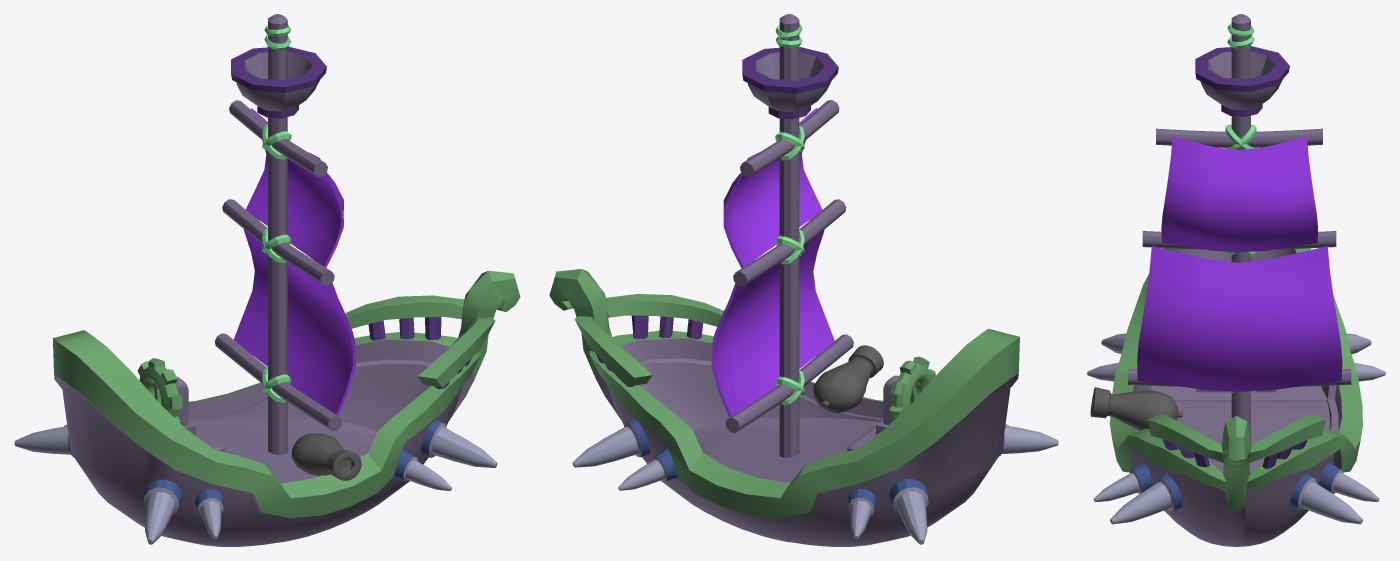
Rendered from Nave spuntoni.fbx.
3 views of the same model, side by side, from view 1: azimuth 30°, elevation 25°; view 2: azimuth 150°, elevation 25°; view 3: azimuth 270°, elevation 25° (orthographic). The views are drawn at different scales.
Visible parts, largest first — view 1: nave spuntoni; view 2: nave spuntoni; view 3: nave spuntoni.
Boxes of the visible parts, left/top/right/bottom form: nave spuntoni: left=14, top=14, right=520, bottom=546; nave spuntoni: left=549, top=14, right=1058, bottom=546; nave spuntoni: left=1087, top=14, right=1385, bottom=546.
Size of the model in its own units: 1433 by 1515 by 821.
